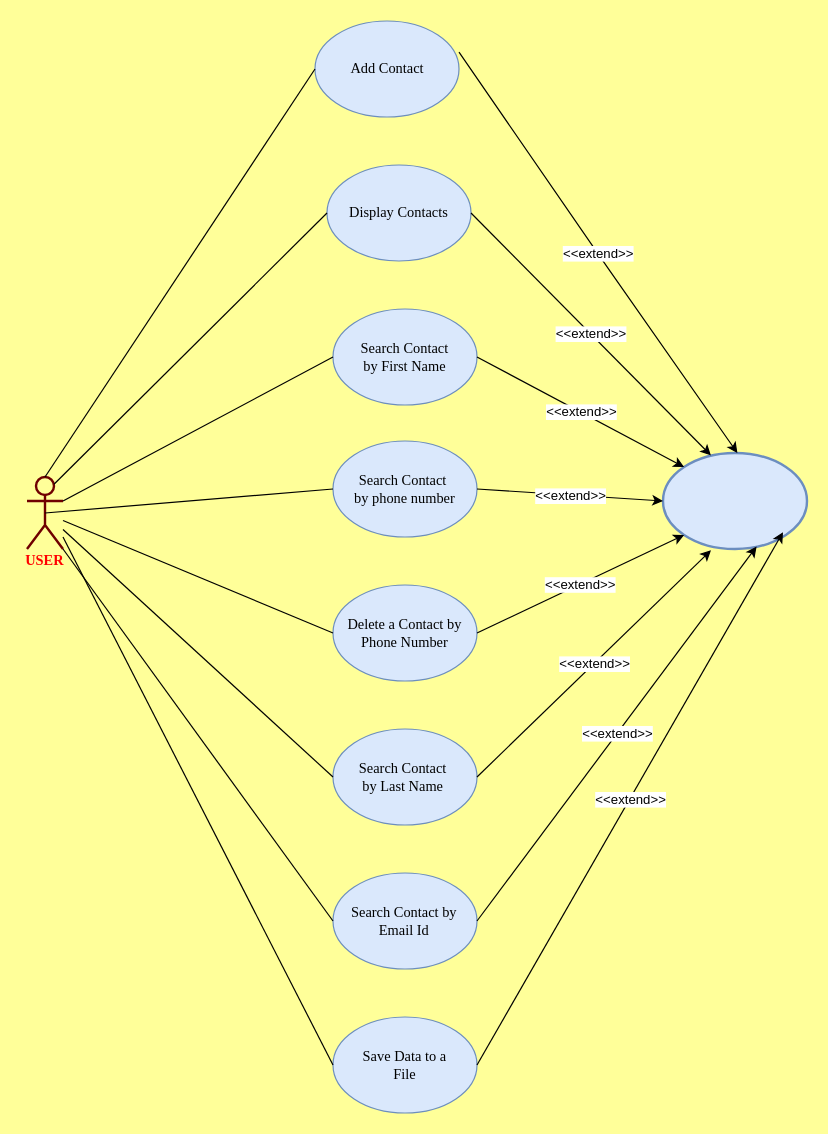
This 828x1134 diagram has some shape labels left out. The box of each missing label's shape, as (x1, y1, x2, y2) in pixels:
Actor: (25, 475, 64, 550)
Read Data from File: (661, 451, 808, 550)
